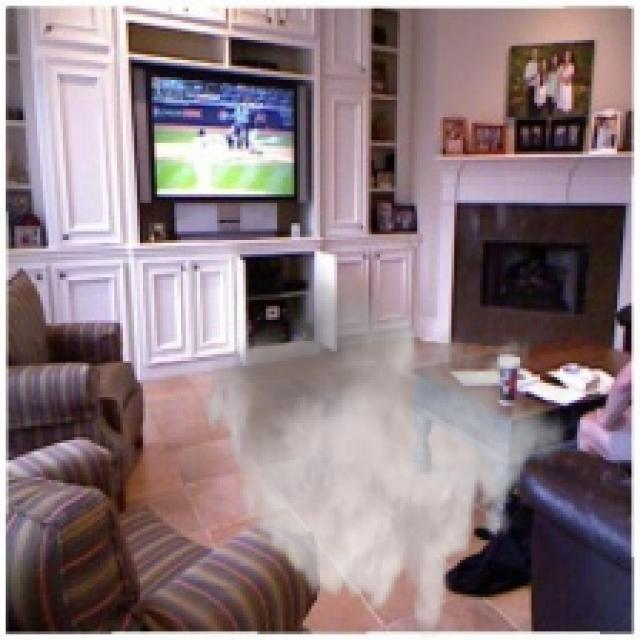Smoke: (199, 268, 572, 638)
